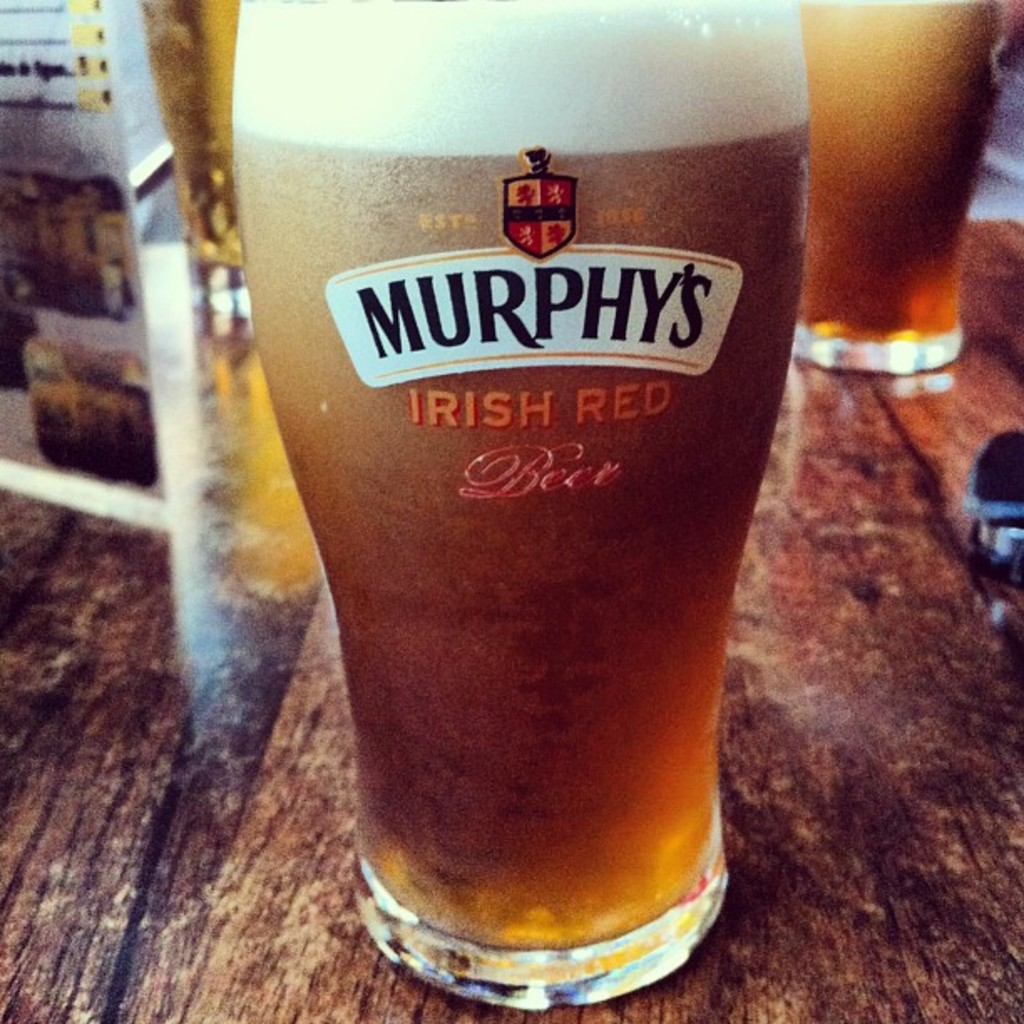Beer: (232, 0, 810, 1011), (798, 0, 1017, 378), (139, 0, 240, 263)
